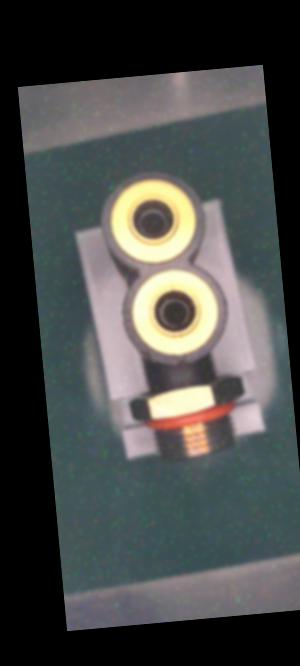bump: (170, 351, 195, 371), (132, 345, 154, 365)
